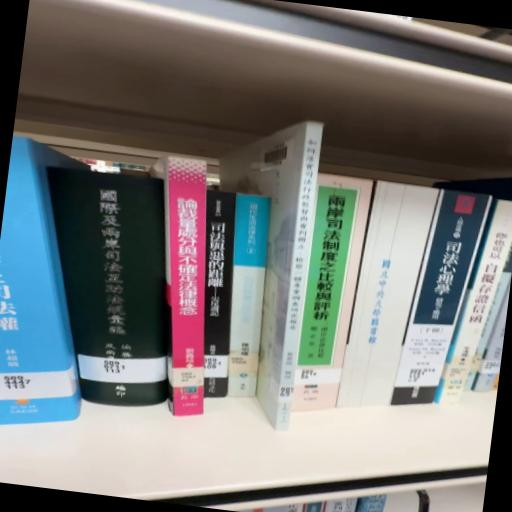backward: (339, 182, 439, 408)
book: (185, 113, 328, 443), (14, 159, 196, 417), (135, 161, 237, 427), (392, 186, 497, 416), (200, 195, 279, 410)
